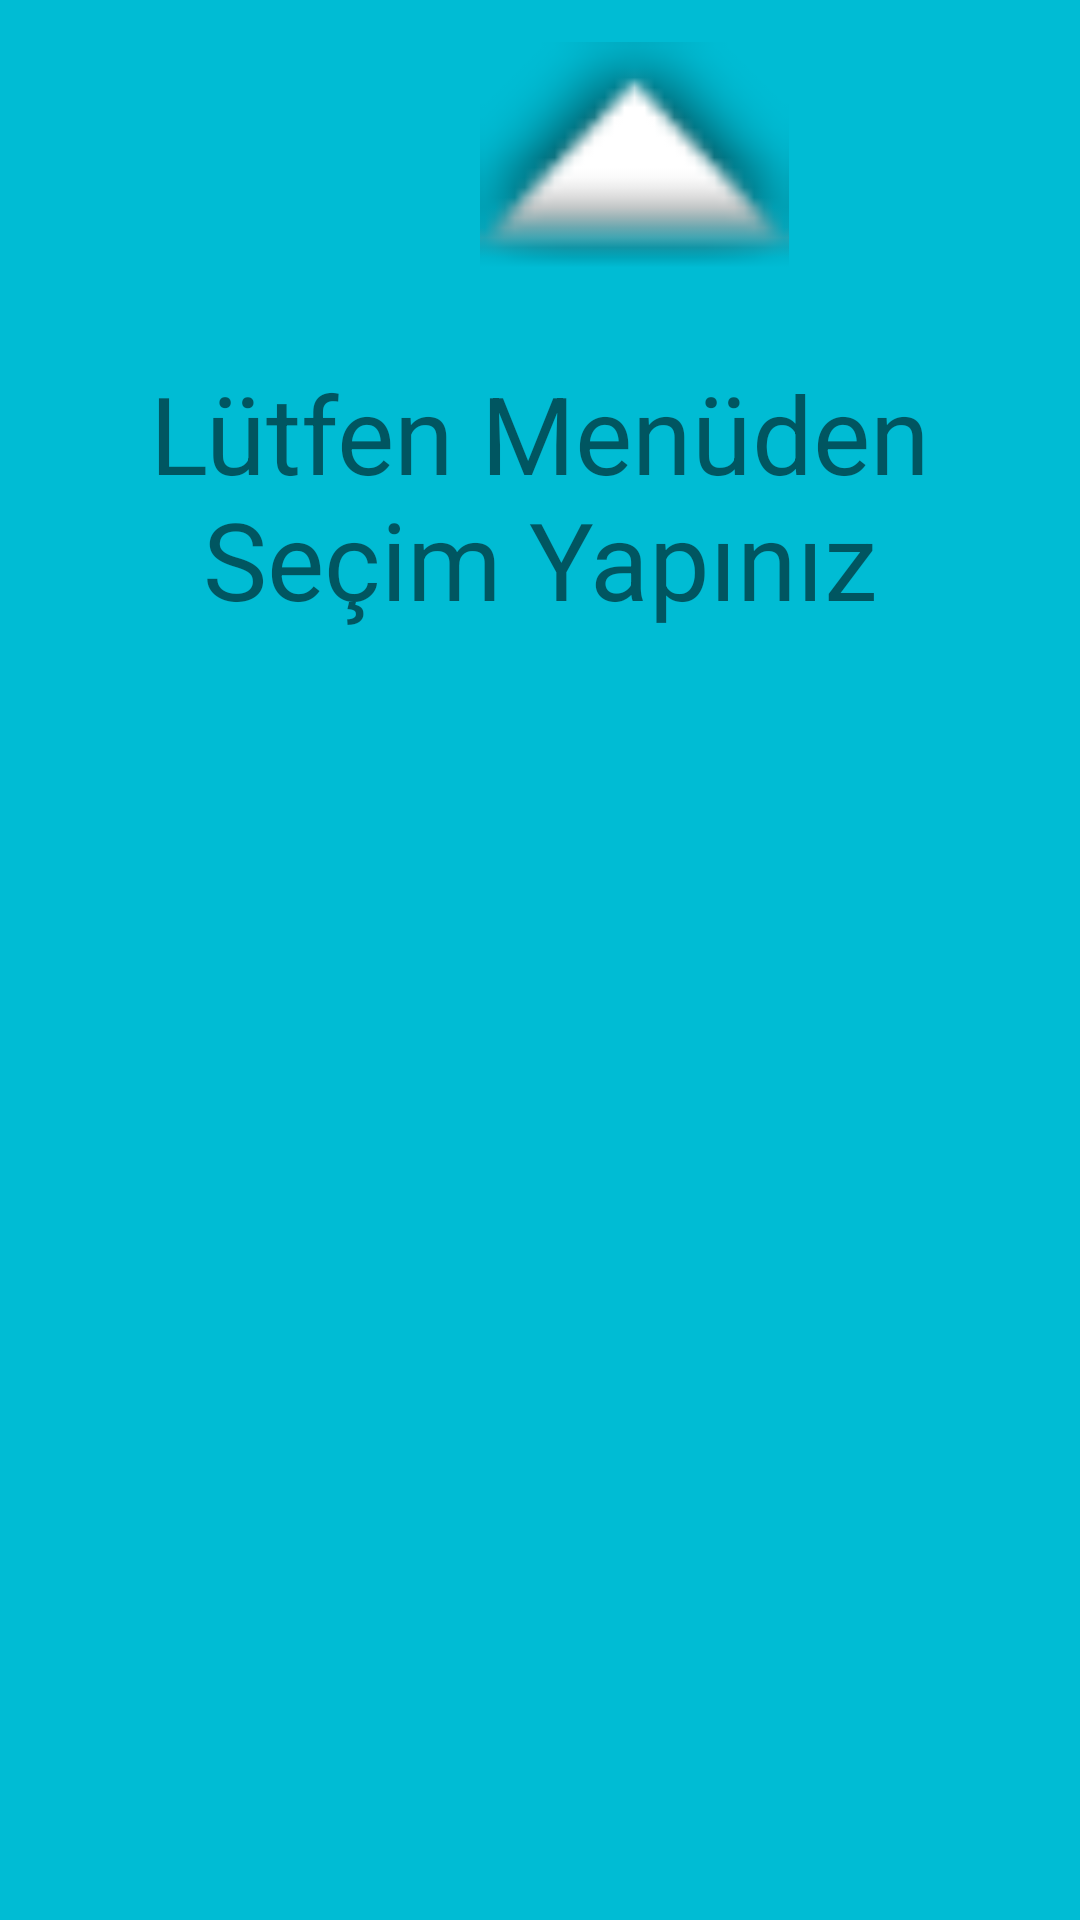

Locate icon controls on the screen. Image size 1080x1920, boxes as [x1, y1, x2, y2].
arrow up float: [480, 54, 789, 258]
